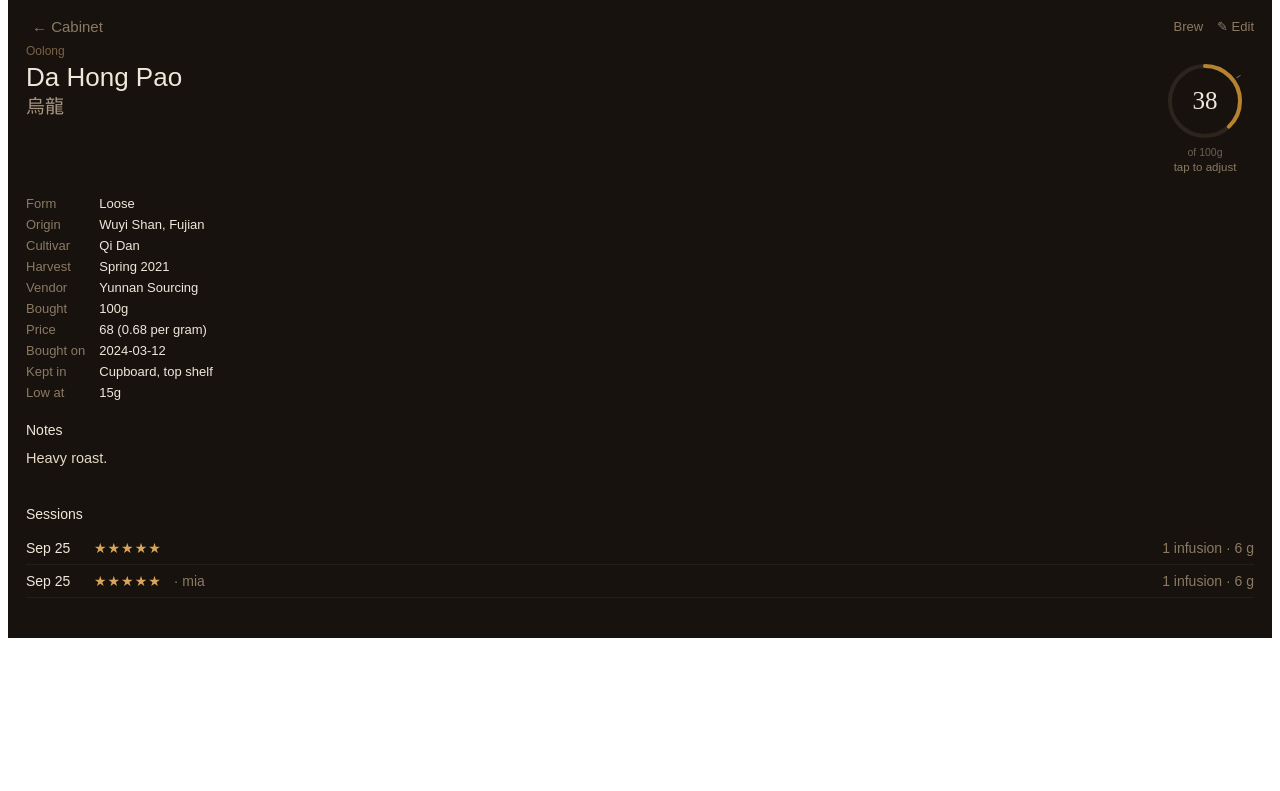
TeaDetailPage › says how many sessions go with a shared tea, and how many are someone else's
This screenshot has width=1280, height=791.
expect the text with test id "sessions-brewer-s-2" reads "· mia": met, box [174,573,205,589]
Click the button with test id "tea-edit" at (1236, 26), box [1217,15,1254,38]
(page scrolled)
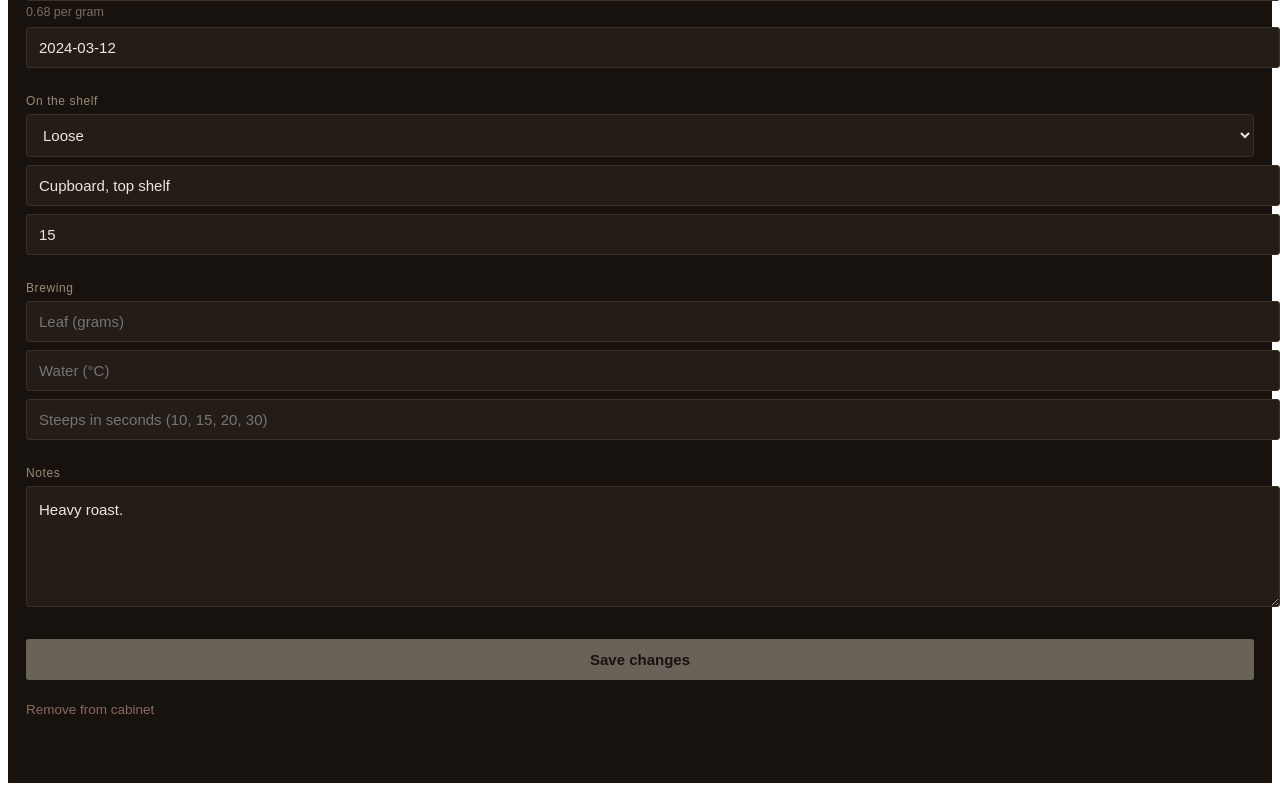
Click the button with test id "tea-remove" at (90, 712), box [8,680,172,743]
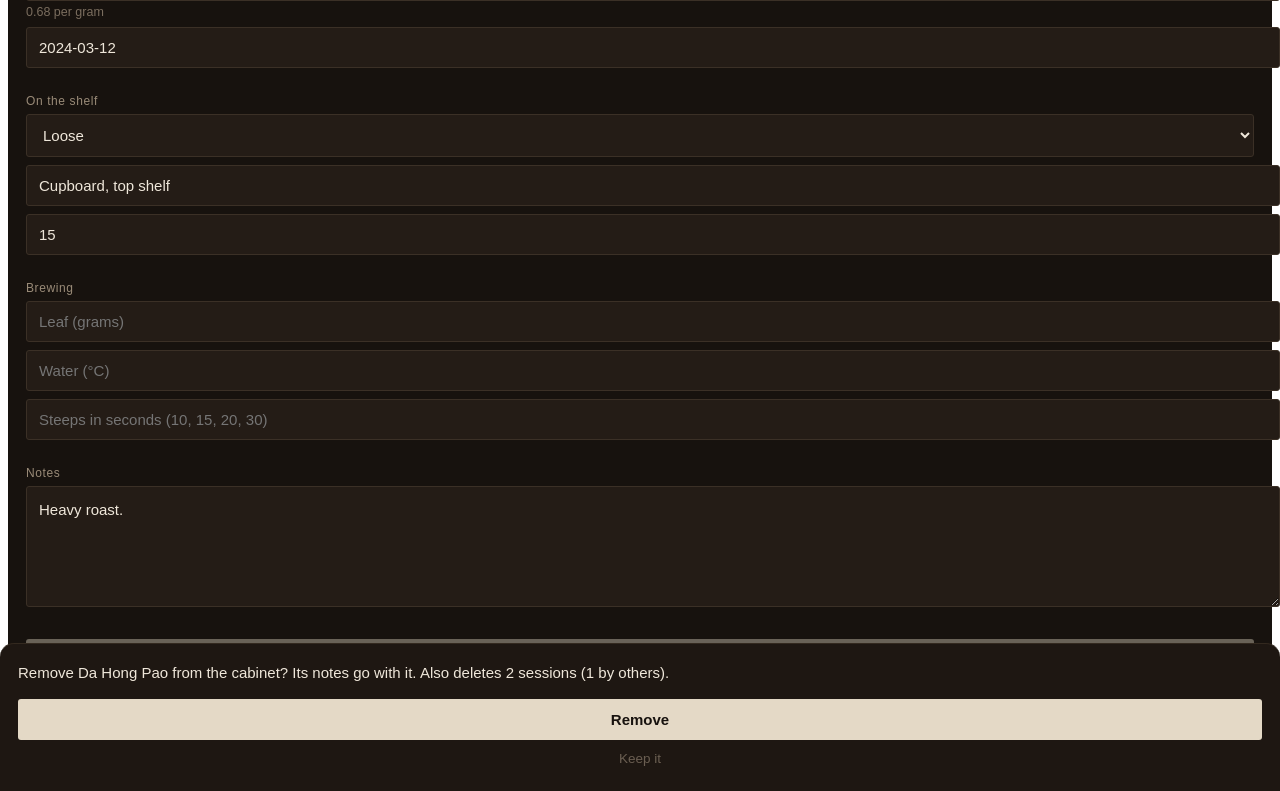
expect the element with test id "remove-confirm" shows "Also deletes 2 sessions (1 by others).": met, box [420,664,669,681]
